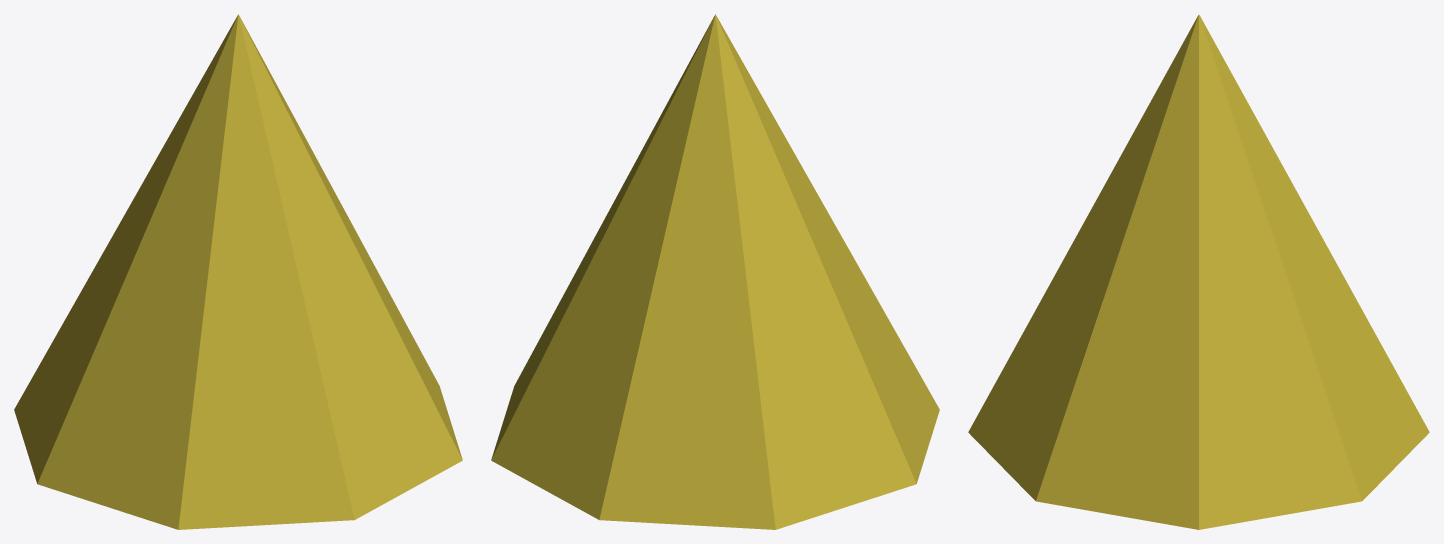
The model's file is FlashLightCone.glb.
3 renders of one model, left to right at view 1: azimuth 30°, elevation 25°; view 2: azimuth 150°, elevation 25°; view 3: azimuth 270°, elevation 25°, orthographic.
Visible parts, largest first — view 1: Cone; view 2: Cone; view 3: Cone.
Part boxes in pixels (bbox=[...]): Cone: bbox=[14, 14, 462, 529]; Cone: bbox=[491, 14, 939, 529]; Cone: bbox=[968, 14, 1429, 529].
Size of the model in its own units: 2 by 2 by 2.
